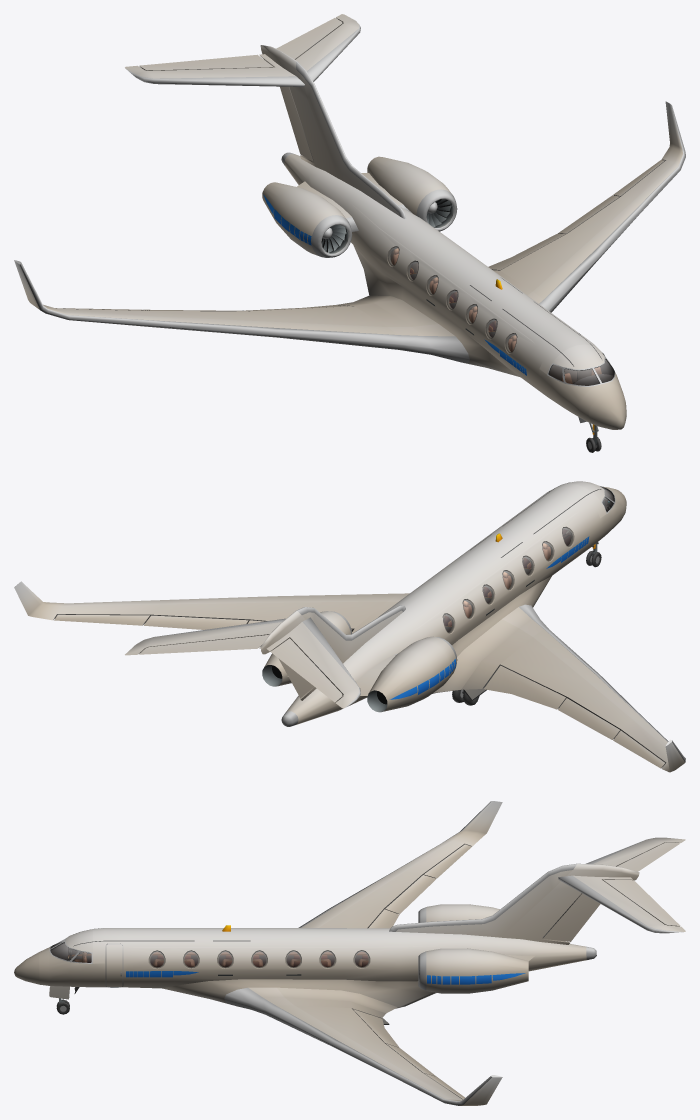
3 renders of one model, top to bottom at view 1: azimuth 30°, elevation 25°; view 2: azimuth 150°, elevation 25°; view 3: azimuth 270°, elevation 25°, orthographic. The views are drawn at different scales.
Visible parts, largest first — view 1: TP_Plane_05A_Fuselage, TP_Plane_05A_Elevator.R, TP_Plane_05A_Elevator.L, TP_Plane_05A_Rudder; view 2: TP_Plane_05A_Fuselage, TP_Plane_05A_Flap_Int.R, TP_Plane_05A_Elevator.R, TP_Plane_05A_Elevator.L, TP_Plane_05A_Flap_Ext.L, TP_Plane_05A_Flap_Ext.R, TP_Plane_05A_Aileron.L, TP_Plane_05A_Aileron.R; view 3: TP_Plane_05A_Fuselage, TP_Plane_05A_Rudder, TP_Plane_05A_Elevator.L, TP_Plane_05A_Door, TP_Plane_05A_Flap_Ext.R, TP_Plane_05A_Elevator.R, TP_Plane_05A_Flap_Int.L, TP_Plane_05A_Aileron.R.
Boxes of the visible parts, bbox=[...] form: TP_Plane_05A_Fuselage: bbox=[14, 14, 685, 429]; TP_Plane_05A_Elevator.R: bbox=[139, 54, 273, 70]; TP_Plane_05A_Elevator.L: bbox=[276, 18, 342, 59]; TP_Plane_05A_Rudder: bbox=[280, 86, 313, 161]; TP_Plane_05A_Fuselage: bbox=[14, 481, 685, 772]; TP_Plane_05A_Flap_Int.R: bbox=[484, 665, 566, 709]; TP_Plane_05A_Elevator.R: bbox=[271, 638, 342, 702]; TP_Plane_05A_Elevator.L: bbox=[139, 635, 268, 654]; TP_Plane_05A_Flap_Ext.L: bbox=[143, 615, 248, 629]; TP_Plane_05A_Flap_Ext.R: bbox=[558, 698, 620, 739]; TP_Plane_05A_Aileron.L: bbox=[54, 614, 149, 625]; TP_Plane_05A_Aileron.R: bbox=[613, 730, 665, 768]; TP_Plane_05A_Fuselage: bbox=[14, 801, 685, 1105]; TP_Plane_05A_Rudder: bbox=[542, 893, 600, 941]; TP_Plane_05A_Elevator.L: bbox=[603, 879, 680, 926]; TP_Plane_05A_Door: bbox=[105, 943, 123, 986]; TP_Plane_05A_Flap_Ext.R: bbox=[385, 875, 436, 914]; TP_Plane_05A_Elevator.R: bbox=[617, 842, 680, 871]; TP_Plane_05A_Flap_Int.L: bbox=[352, 1009, 399, 1047]; TP_Plane_05A_Aileron.R: bbox=[423, 844, 471, 878].
Size of the model in its own units: 28.34 by 7.17 by 29.24.
Materials: 2 (2 with a texture image).
